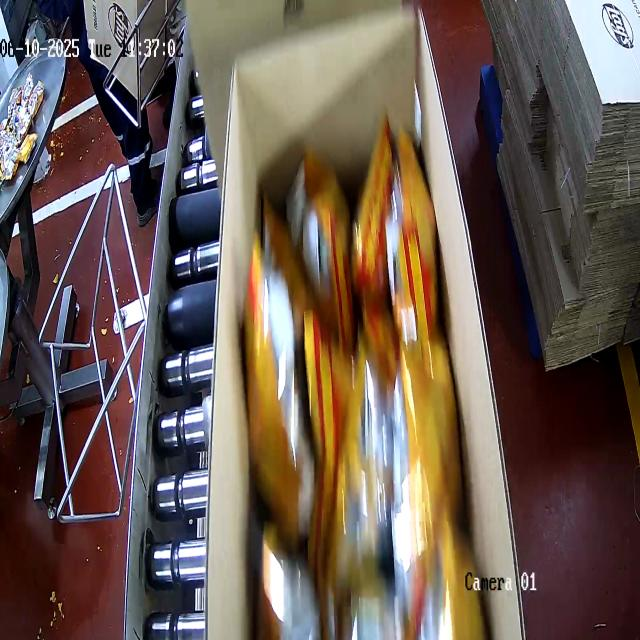FRENCH_CHEESE: (242, 139, 478, 640)
